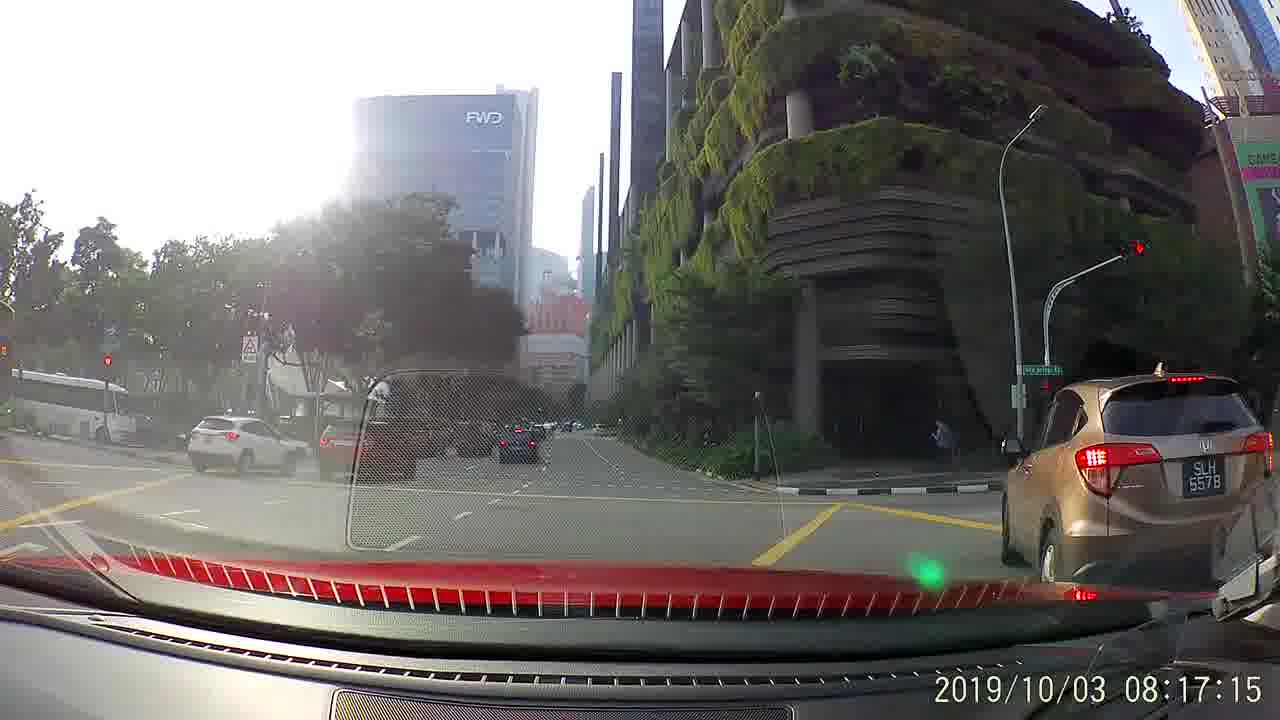bus: (9, 367, 134, 448)
car: (993, 381, 1274, 583), (185, 411, 297, 479), (319, 414, 414, 485), (497, 427, 540, 464)
